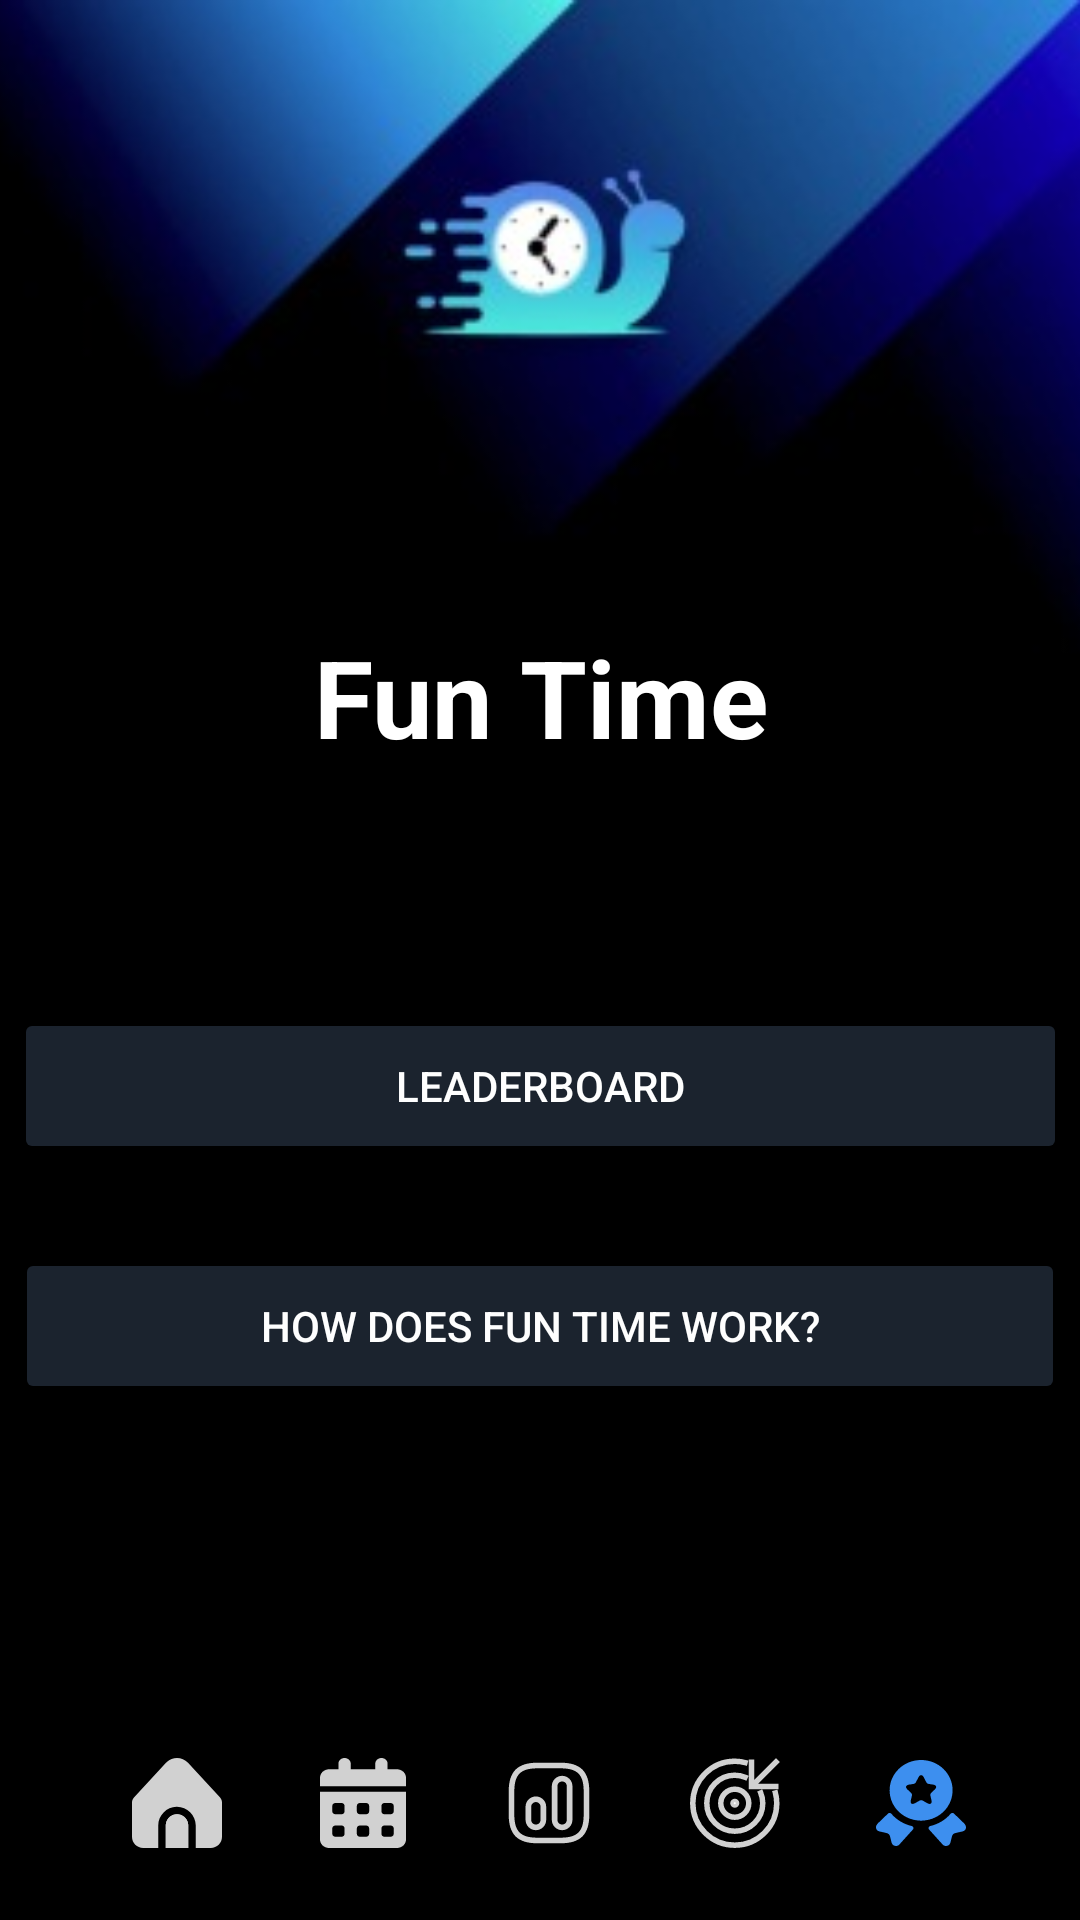

Icon bounding boxes for this 1080*1920 phone screenshot, format (x1, y1, x2, y2):
calander: (320, 1758, 406, 1848)
goals: (690, 1758, 780, 1848)
home: (132, 1758, 222, 1848)
stats: (508, 1762, 590, 1844)
